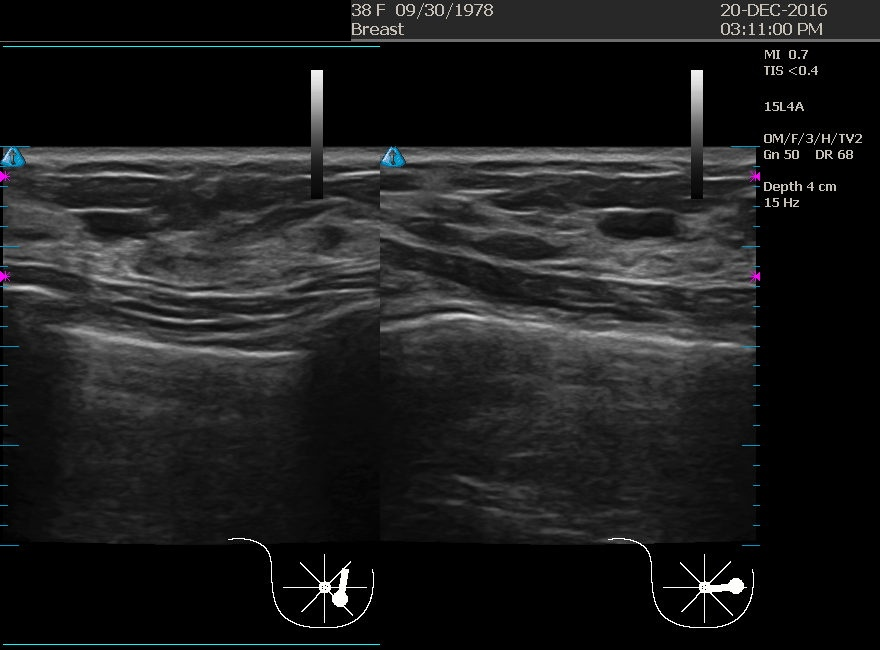BIRADS_2: (42, 176, 242, 377), (489, 148, 689, 349)
